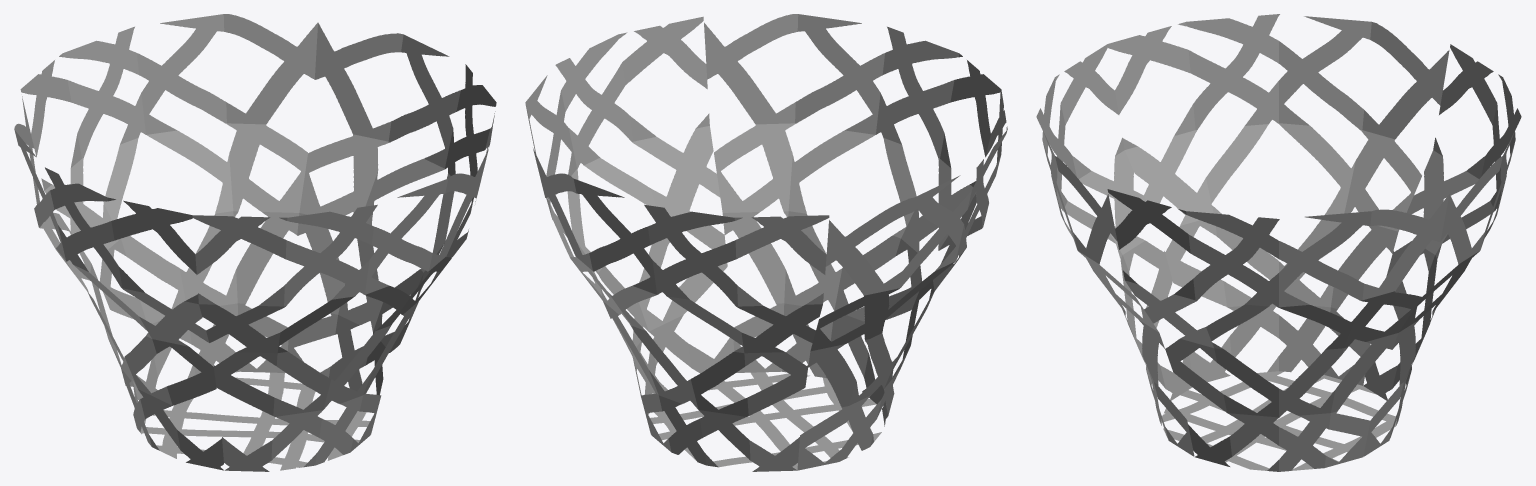
The model's file is trashcan.fbx.
3 renders of one model, left to right at view 1: azimuth 30°, elevation 25°; view 2: azimuth 150°, elevation 25°; view 3: azimuth 270°, elevation 25°, orthographic.
Parts seen in each view (by area): view 1: Cylinder; view 2: Cylinder; view 3: Cylinder.
Boxes of the visible parts, x1,y1,x2,y2 form: Cylinder: (14,14,496,471); Cylinder: (525,14,1007,471); Cylinder: (1036,14,1521,471).
Bounding box in the file's own units: 288 × 288 × 200.
